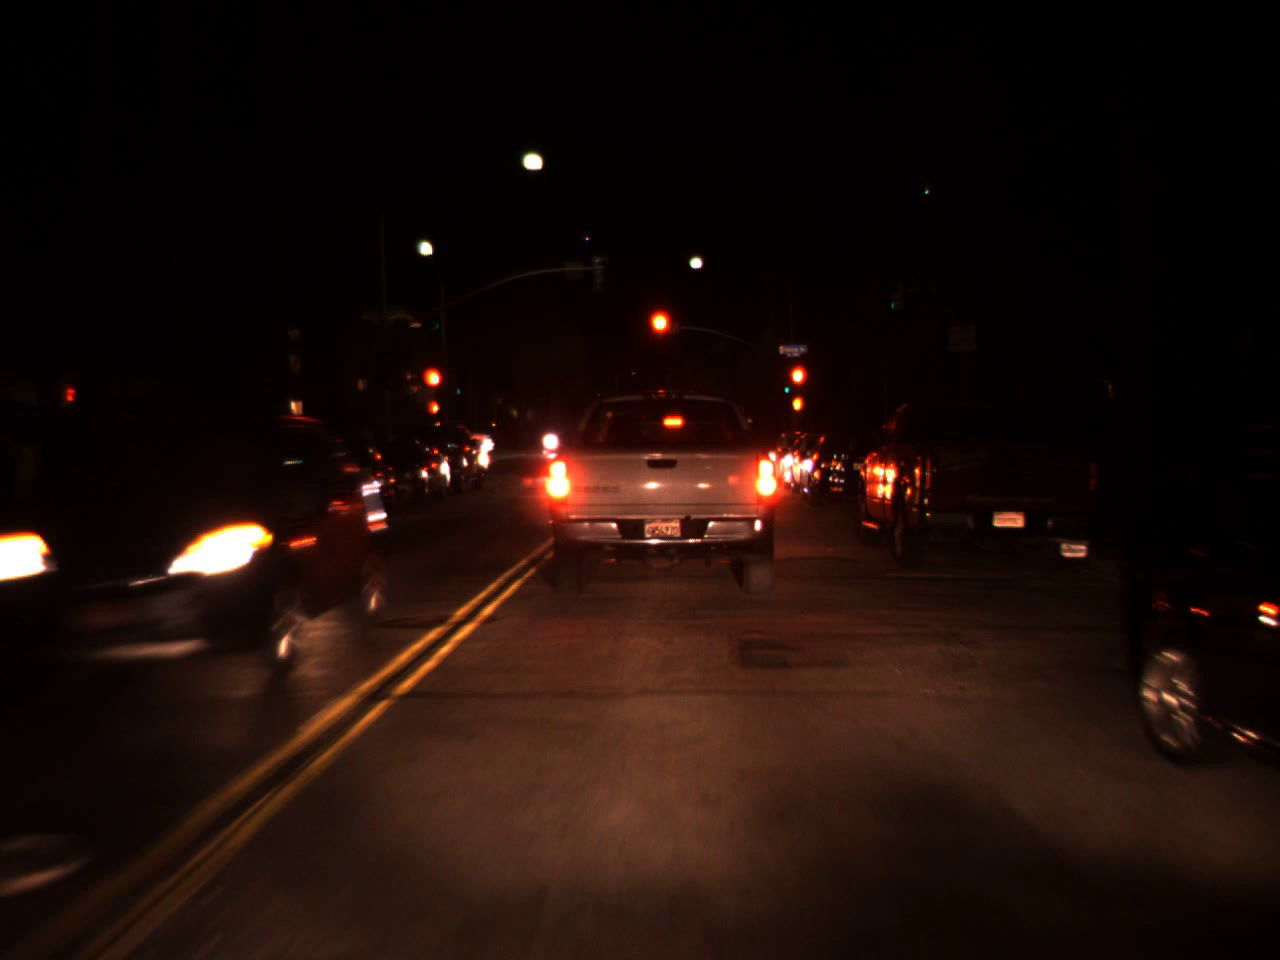stop: (646, 306, 673, 362), (419, 366, 446, 409), (786, 361, 810, 409)
